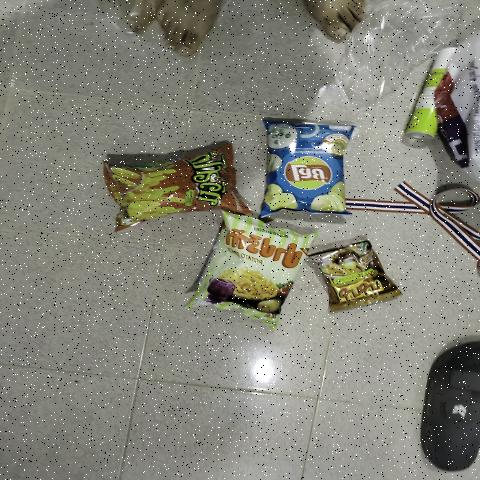lay_blue: (272, 129, 344, 204)
mama: (319, 260, 379, 294)
paprika: (211, 235, 309, 311)
twisco: (116, 144, 236, 218)
